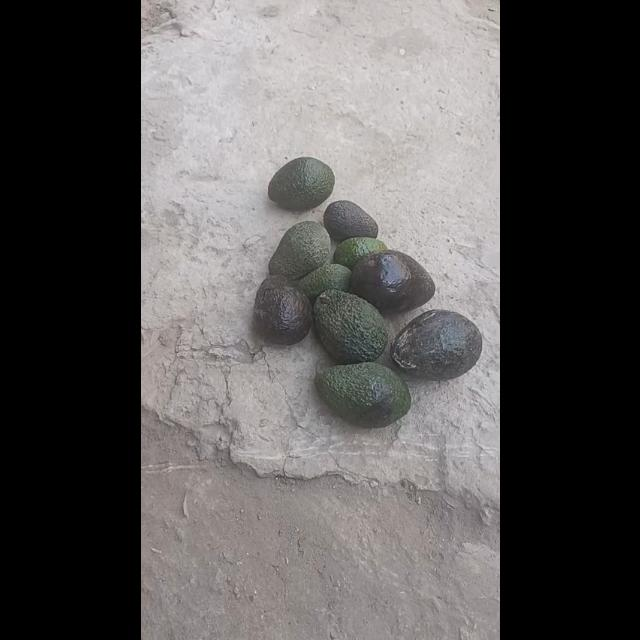Primera: (314, 362, 410, 428), (390, 309, 480, 379), (312, 288, 388, 364), (348, 249, 432, 313), (251, 276, 311, 344)
Segunda: (268, 220, 330, 282), (266, 155, 334, 211)
Tercera: (322, 198, 378, 242), (295, 261, 351, 305), (332, 237, 386, 270)
